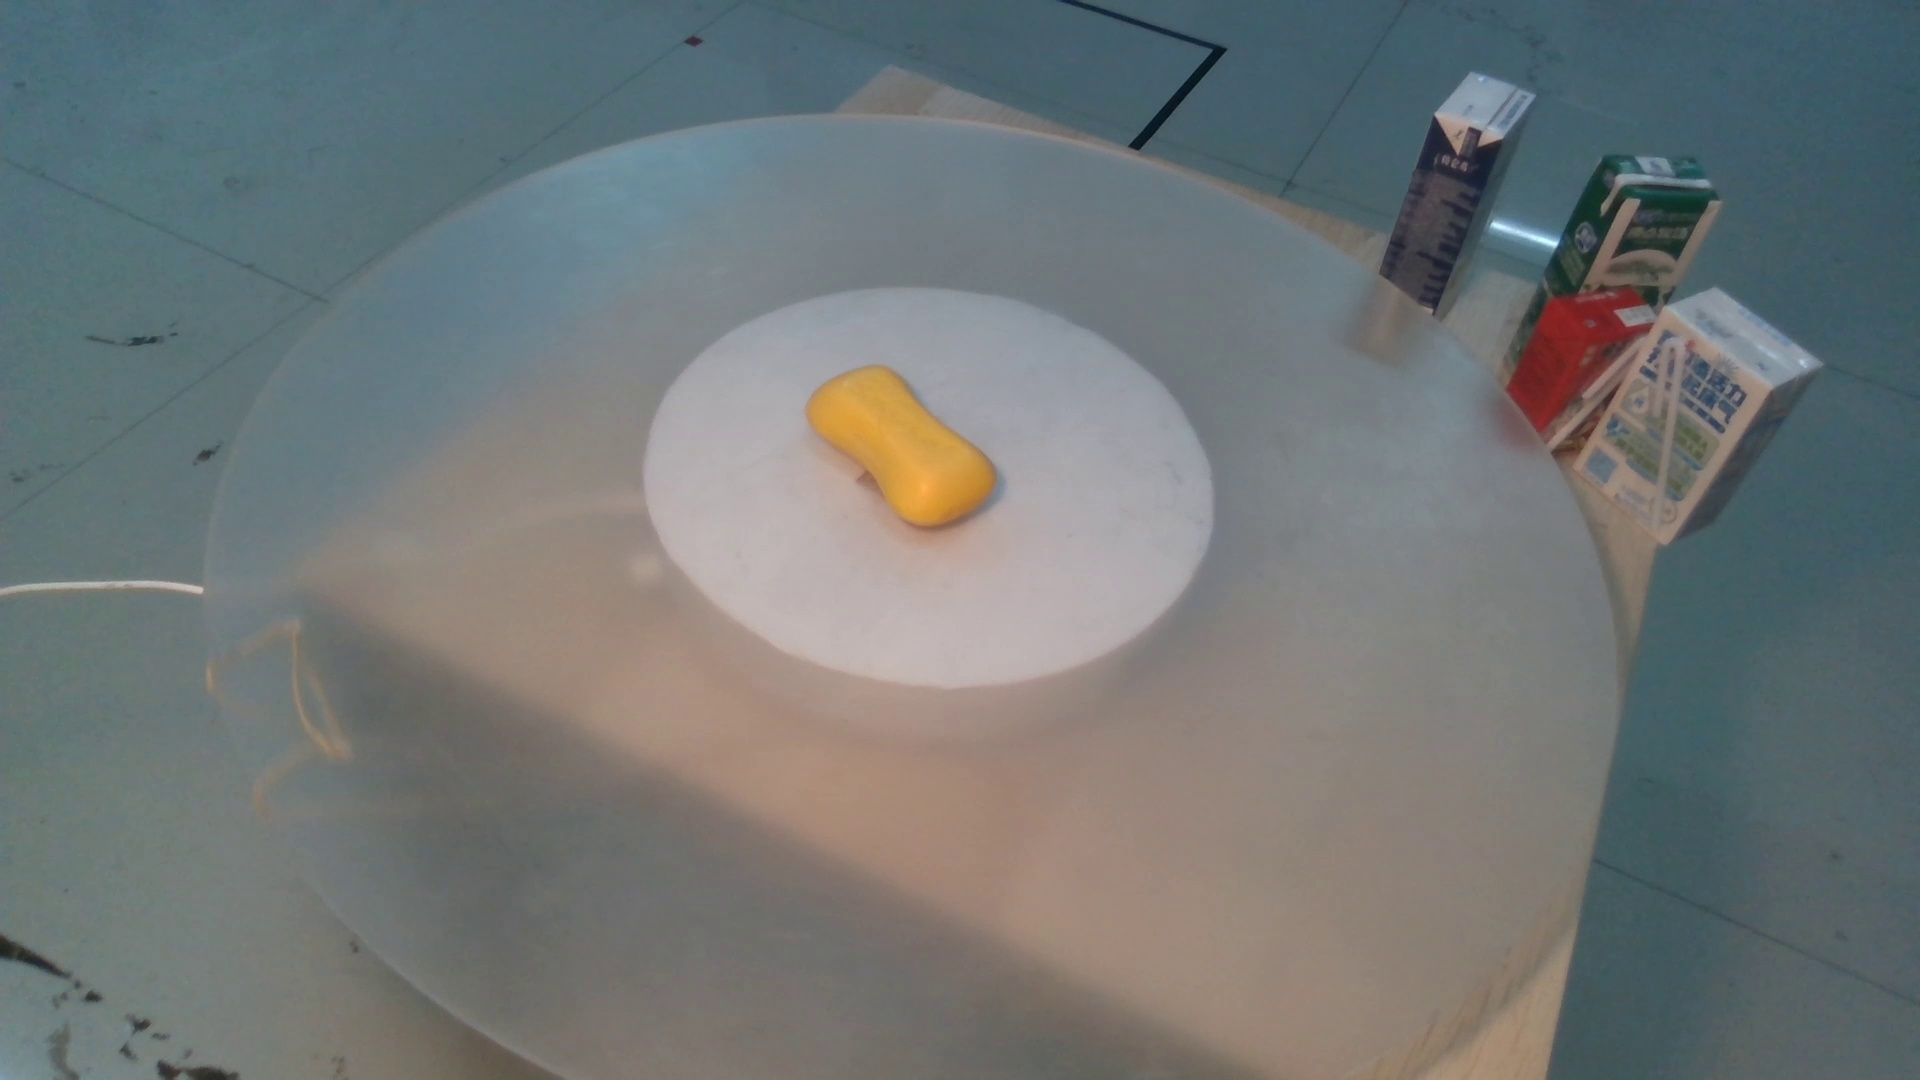CA003_1: (789, 348, 1025, 531)
